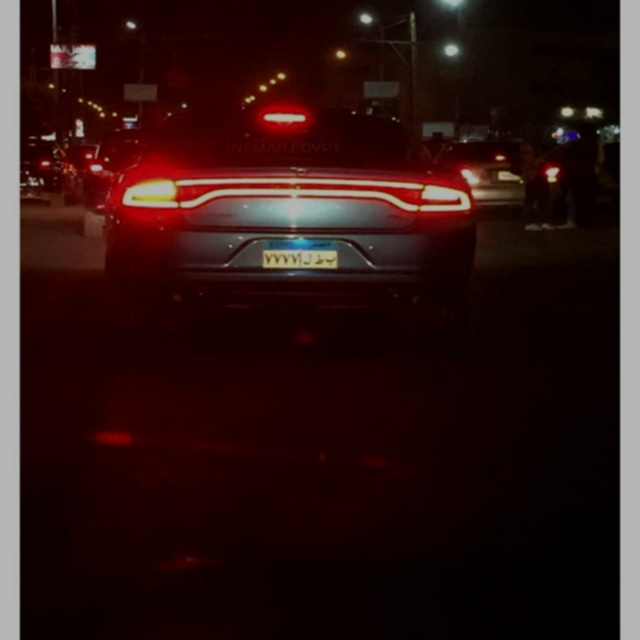License Plate: (258, 238, 343, 271)
